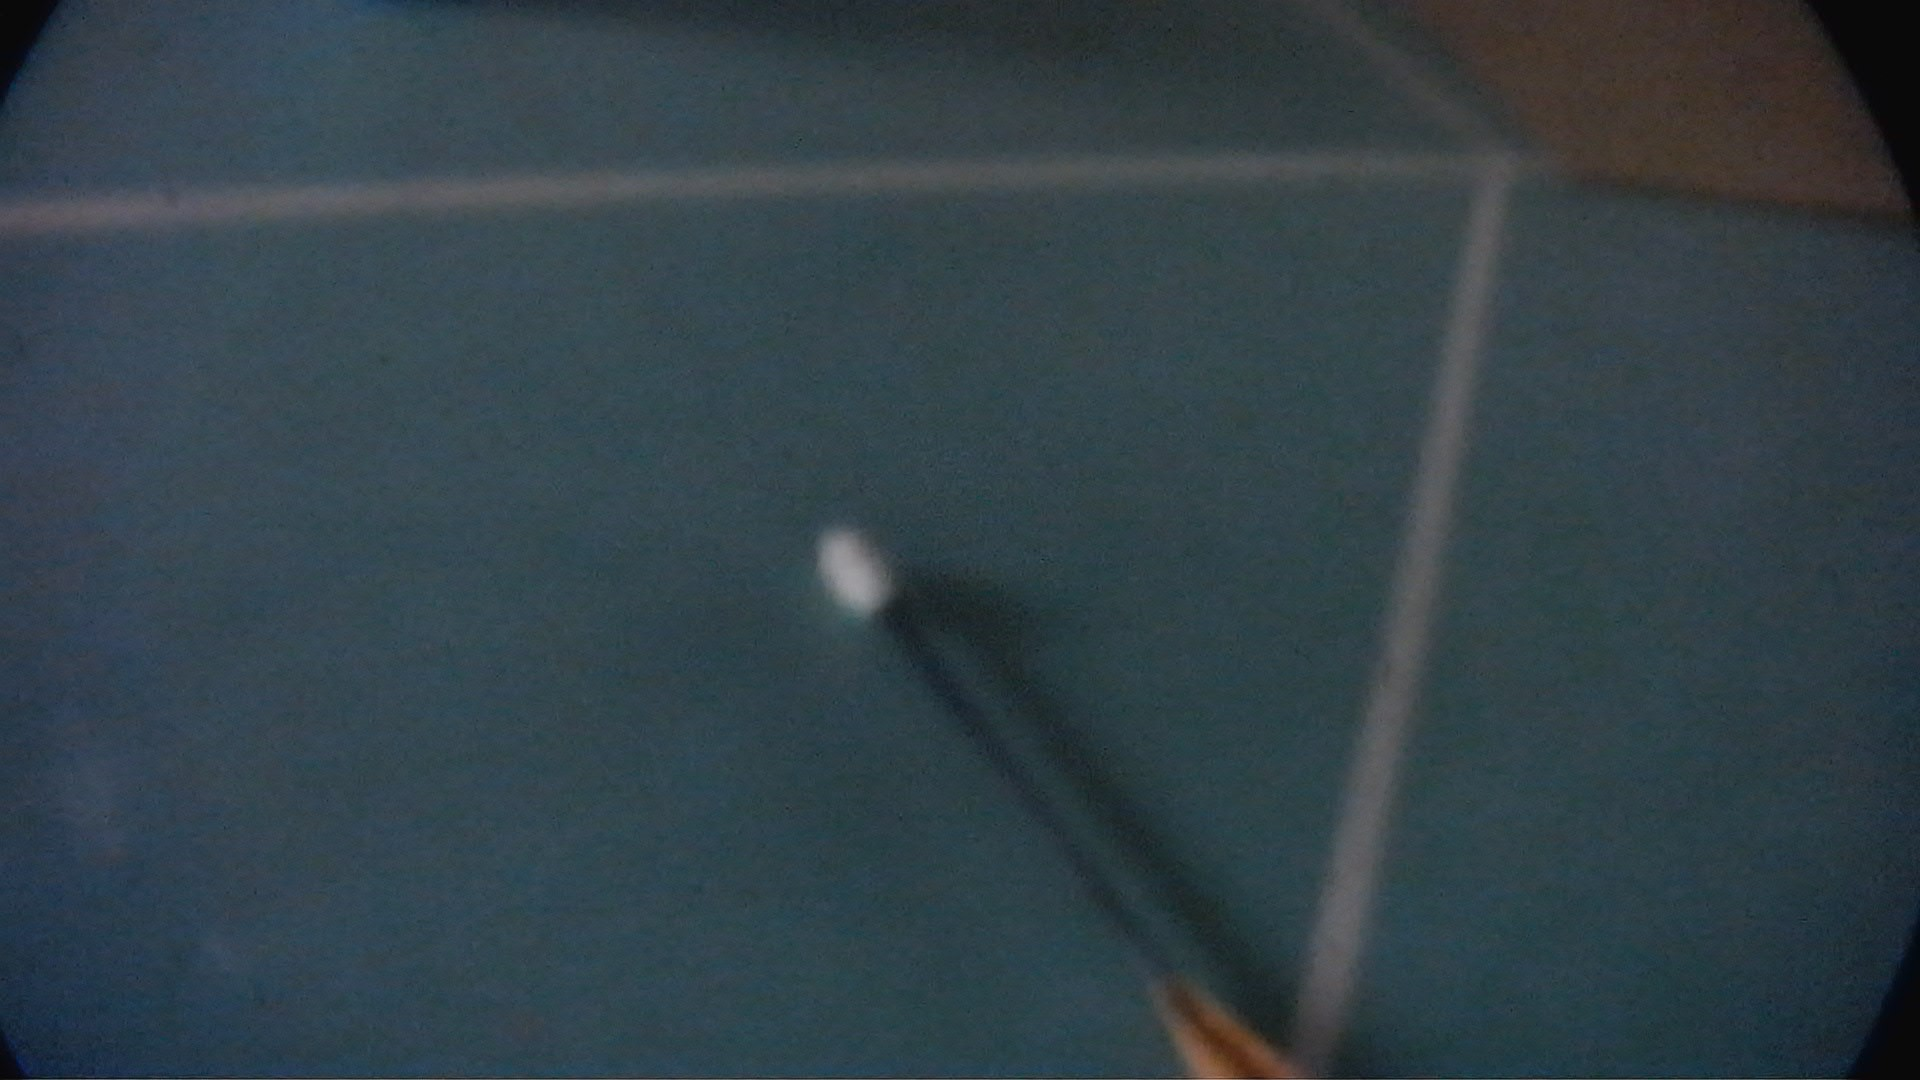arrow: (814, 521, 1336, 1077)
arrowFront: (807, 518, 901, 618)
